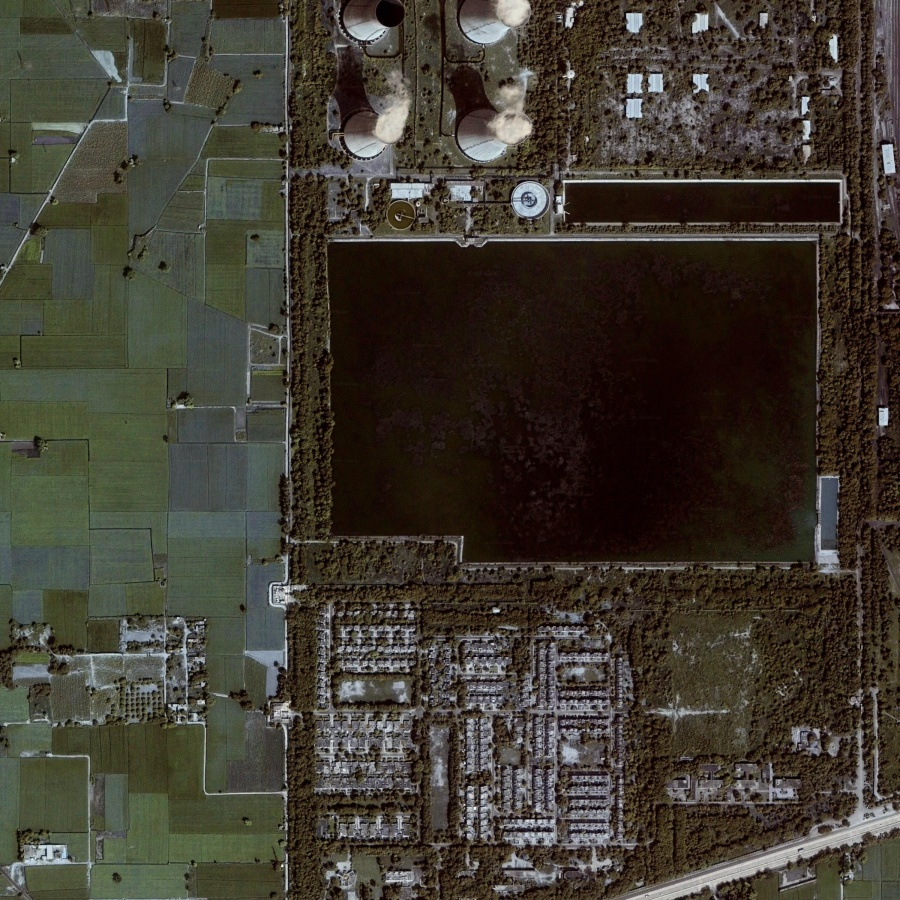PowerPlant: (303, 219, 856, 591)
